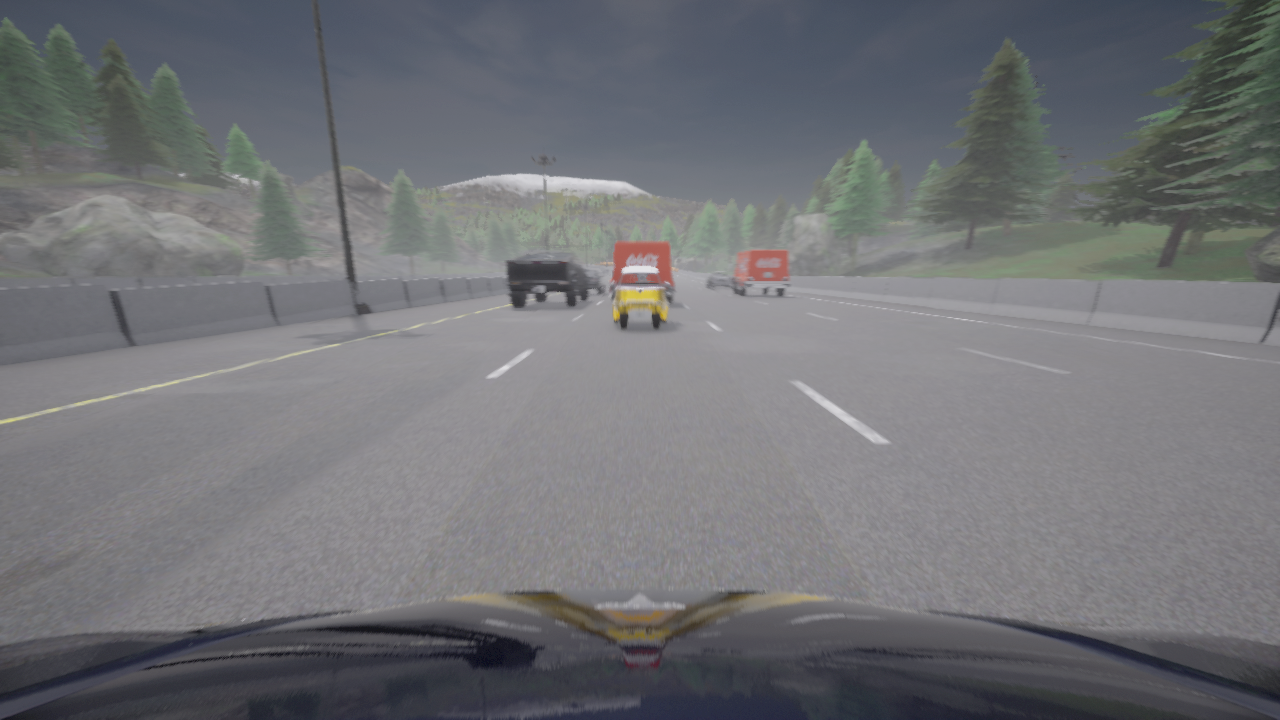cyclist: (0, 588, 1279, 719), (506, 253, 590, 307), (610, 242, 674, 303), (610, 267, 669, 329), (586, 270, 606, 295), (707, 272, 733, 288)
